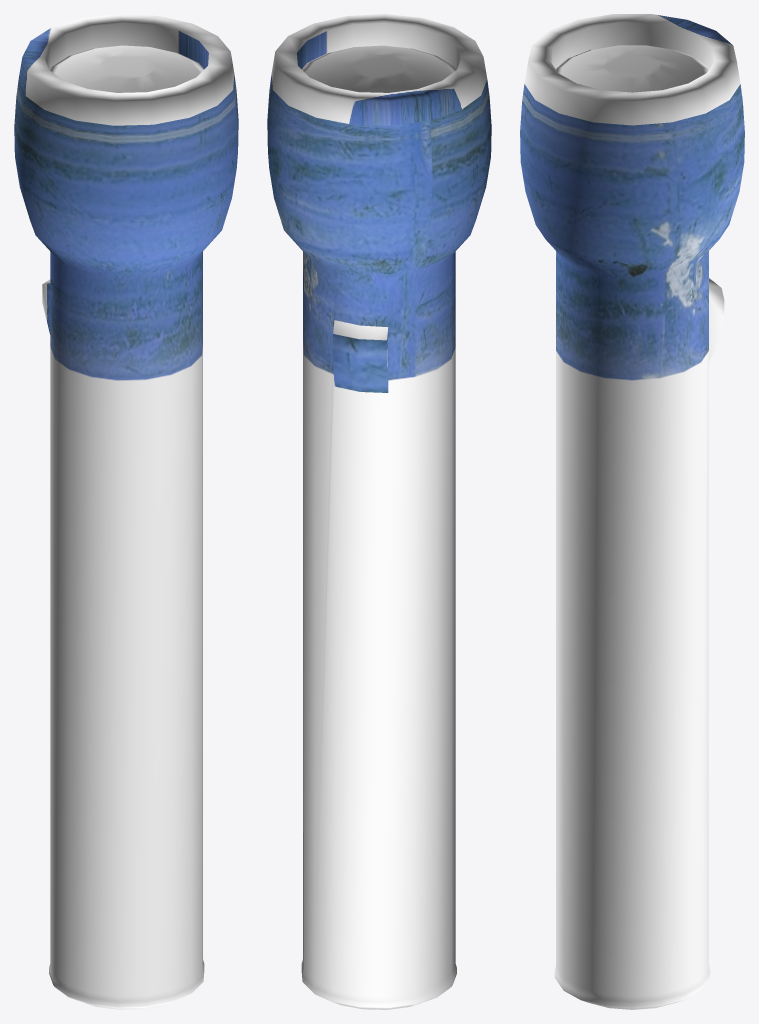
File: fgg.obj
The picture shows the model from 3 angles, left to right: view 1: azimuth 30°, elevation 25°; view 2: azimuth 150°, elevation 25°; view 3: azimuth 270°, elevation 25°; orthographic projection.
Visible parts, largest first — view 1: Cylinder01_0; view 2: Cylinder01_0; view 3: Cylinder01_0.
Part boxes in pixels (x1,y1,x2,y2): Cylinder01_0: (14,14,238,1009); Cylinder01_0: (267,14,491,1009); Cylinder01_0: (520,14,744,1009).
Size of the model in its own units: 11.16 by 50.85 by 11.21.
Materials: 1 (1 with a texture image).
